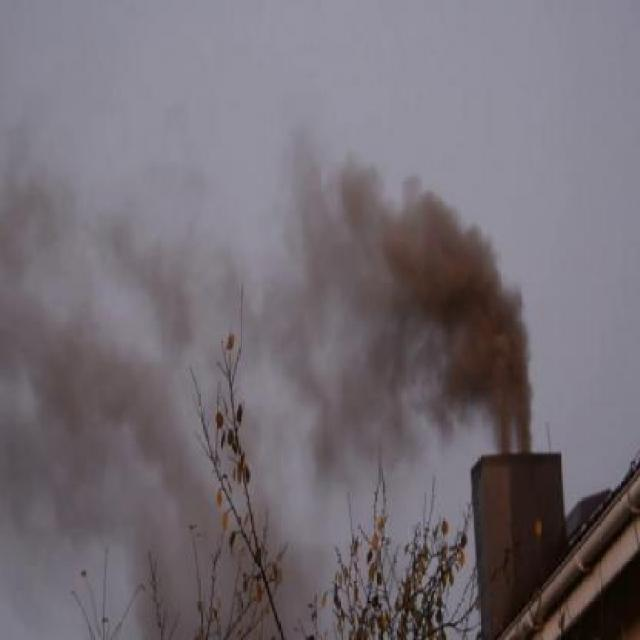smoke: (254, 117, 536, 454), (3, 158, 194, 526)
